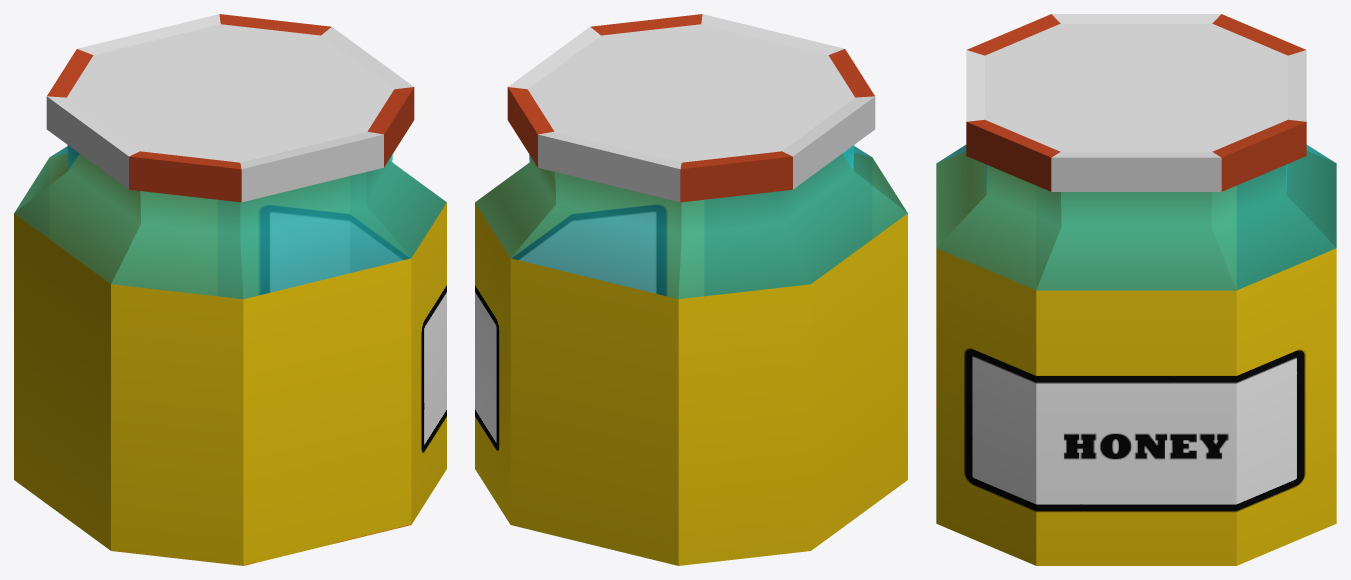
Rendered from Honey.fbx.
The picture shows the model from 3 angles, left to right: view 1: azimuth 30°, elevation 25°; view 2: azimuth 150°, elevation 25°; view 3: azimuth 270°, elevation 25°; orthographic projection. The views are drawn at different scales.
Parts seen in each view (by area): view 1: pCube1; view 2: pCube1; view 3: pCube1.
Part boxes in pixels (x1,y1,x2,y2): pCube1: (14,14,446,565); pCube1: (475,14,907,565); pCube1: (936,14,1336,565).
Bounding box in the file's own units: 1 × 1.09 × 1.
